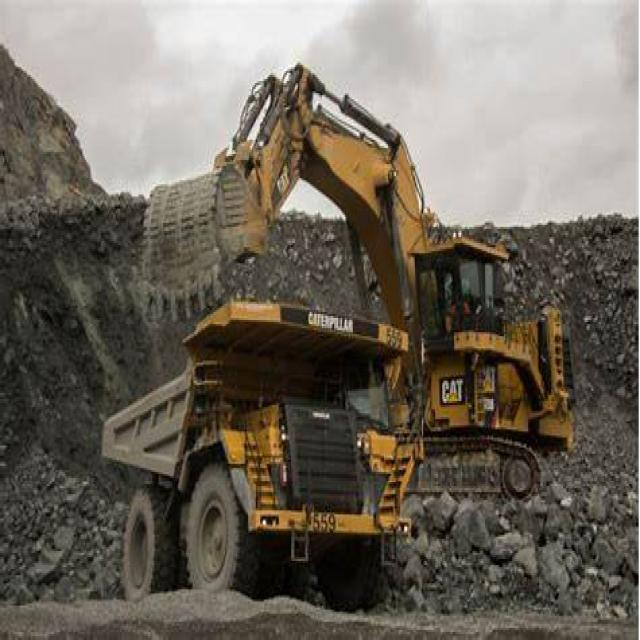dump_truck: (91, 290, 418, 585)
excavator: (140, 61, 592, 514)
